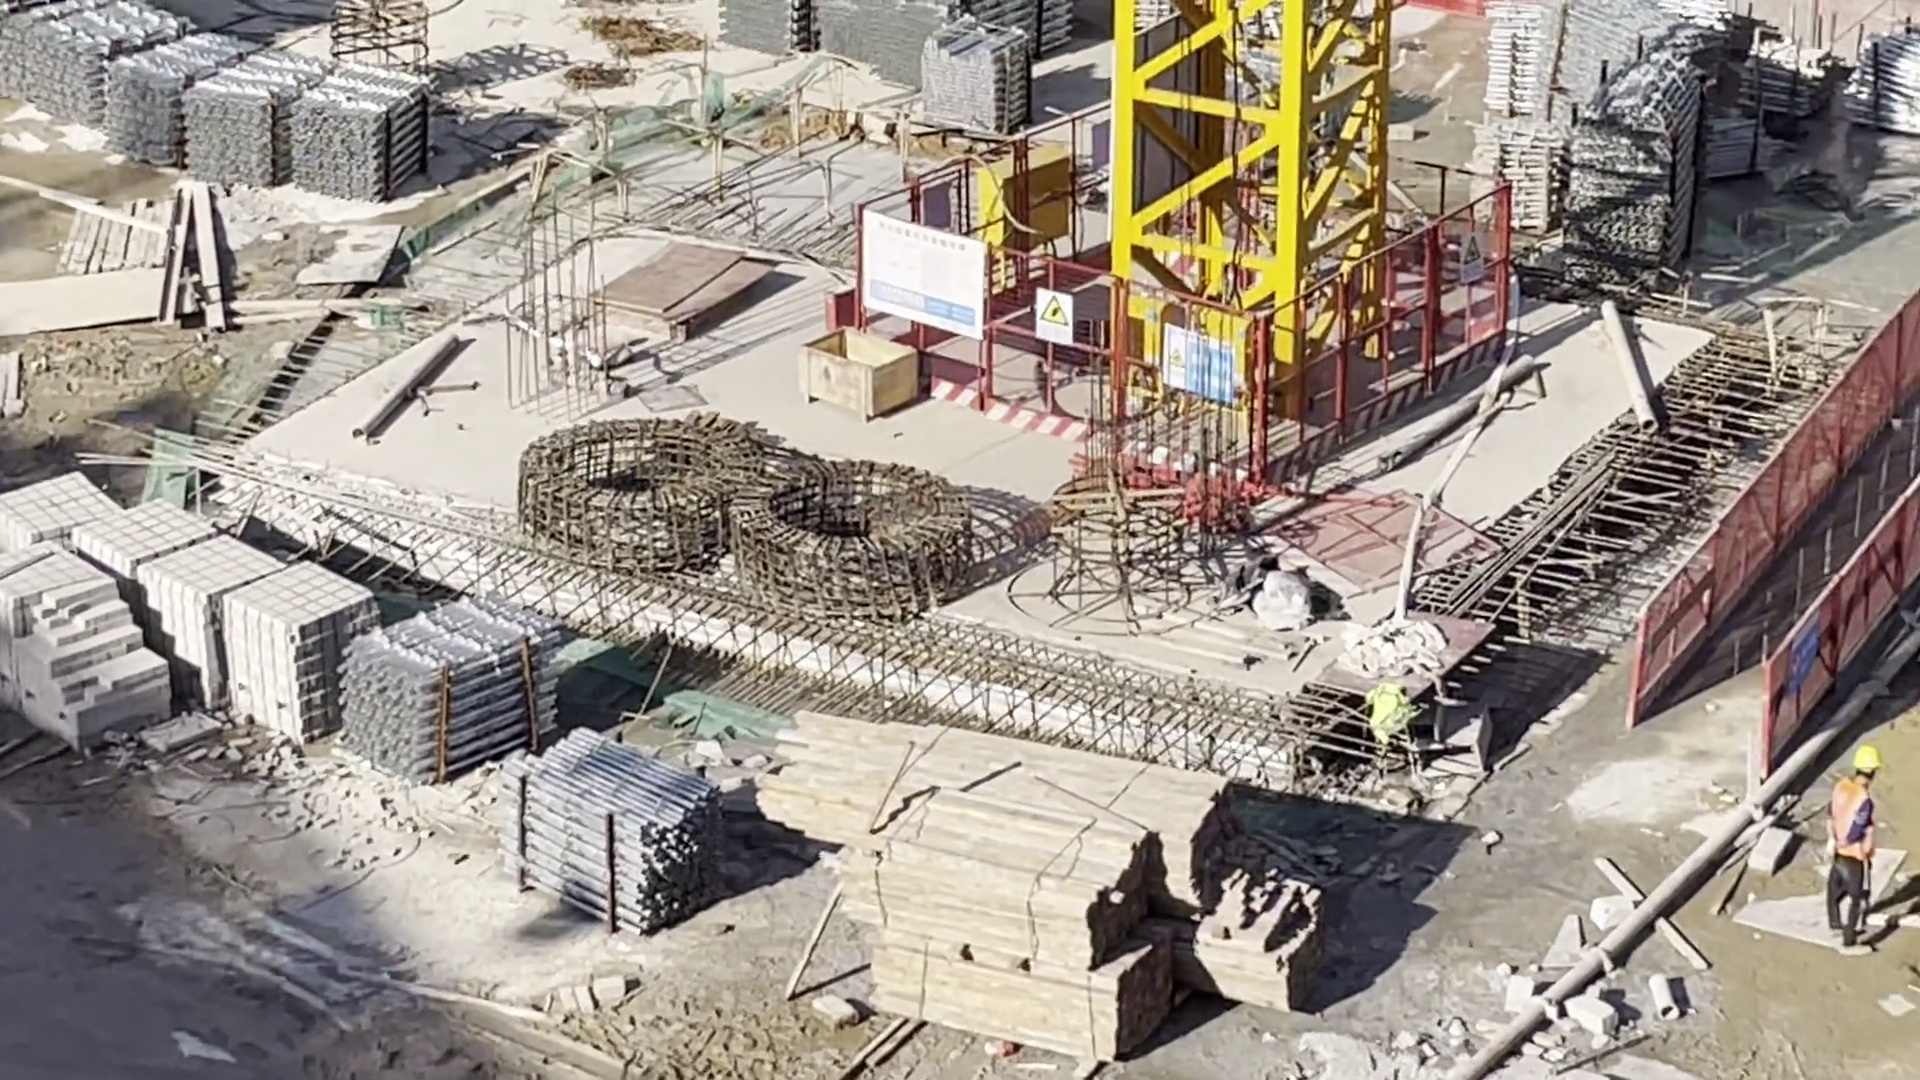board: (605, 249, 774, 349)
brick: (94, 504, 363, 746), (1, 556, 171, 754), (4, 472, 128, 549)
ebox: (986, 150, 1073, 257)
fence: (1632, 288, 1920, 752)
helmet: (1851, 749, 1879, 772)
person: (1824, 748, 1884, 955)
scaffold: (508, 729, 724, 931), (347, 601, 562, 780), (1574, 60, 1705, 261), (737, 1, 1065, 79), (289, 62, 440, 206), (178, 47, 323, 184), (1, 11, 174, 122), (108, 33, 243, 166), (921, 19, 1032, 138), (1470, 119, 1565, 227), (1486, 4, 1551, 114), (1856, 30, 1920, 133), (1744, 39, 1831, 115)
slogan: (1162, 331, 1233, 404), (1789, 612, 1815, 688), (1035, 291, 1071, 343), (1462, 234, 1483, 285)
vest: (1828, 776, 1871, 862)
wood: (762, 711, 1235, 916), (854, 800, 1179, 1066)
